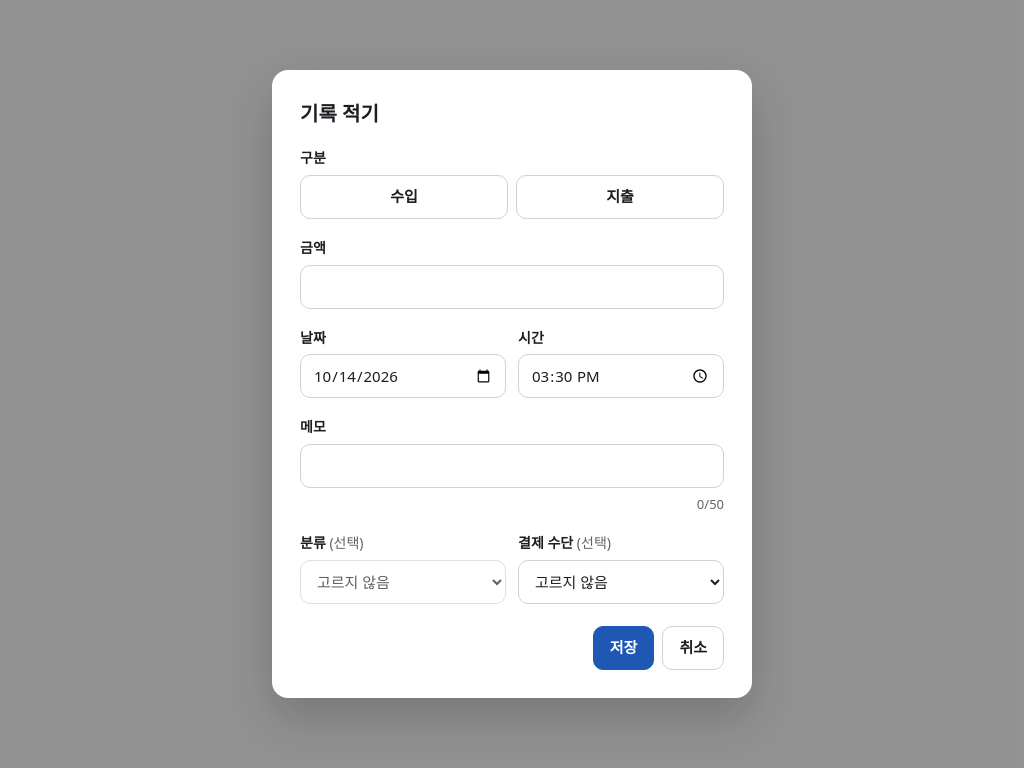
T-121 화면 검사 알림 › 금액 빈칸
The width and height of the screenshot is (1024, 768).
Click the button "지출" at (620, 197), box left=516, top=175, right=724, bottom=219
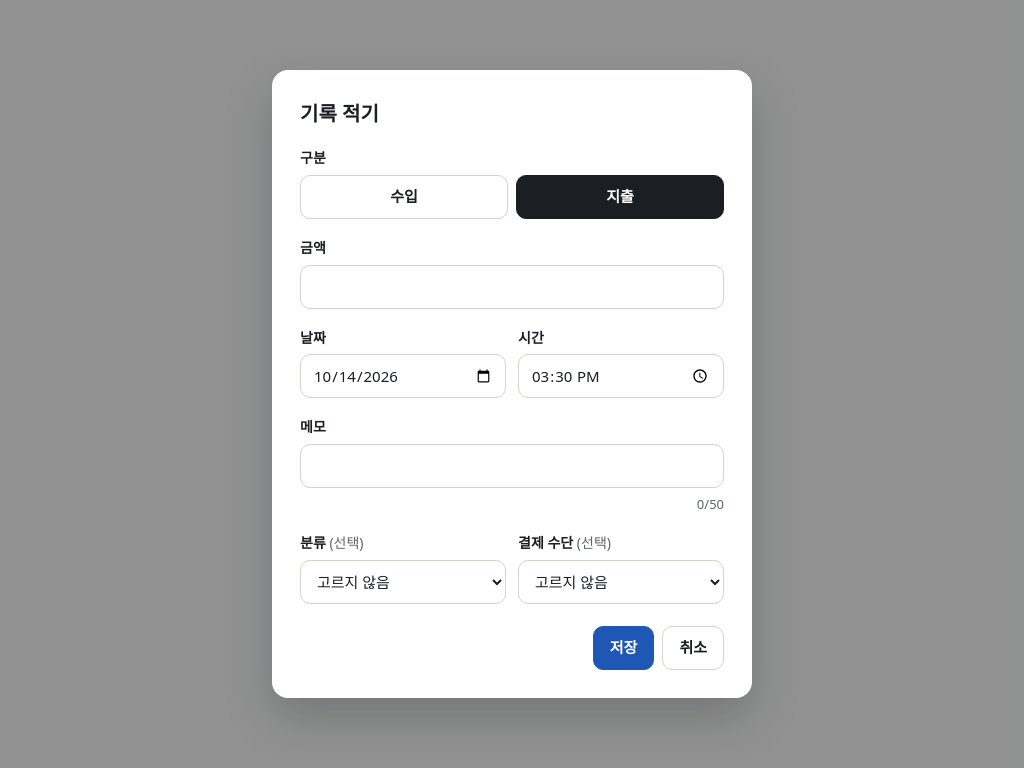
Type "점심" into the field labelled "메모" at (512, 466), box left=300, top=444, right=724, bottom=488
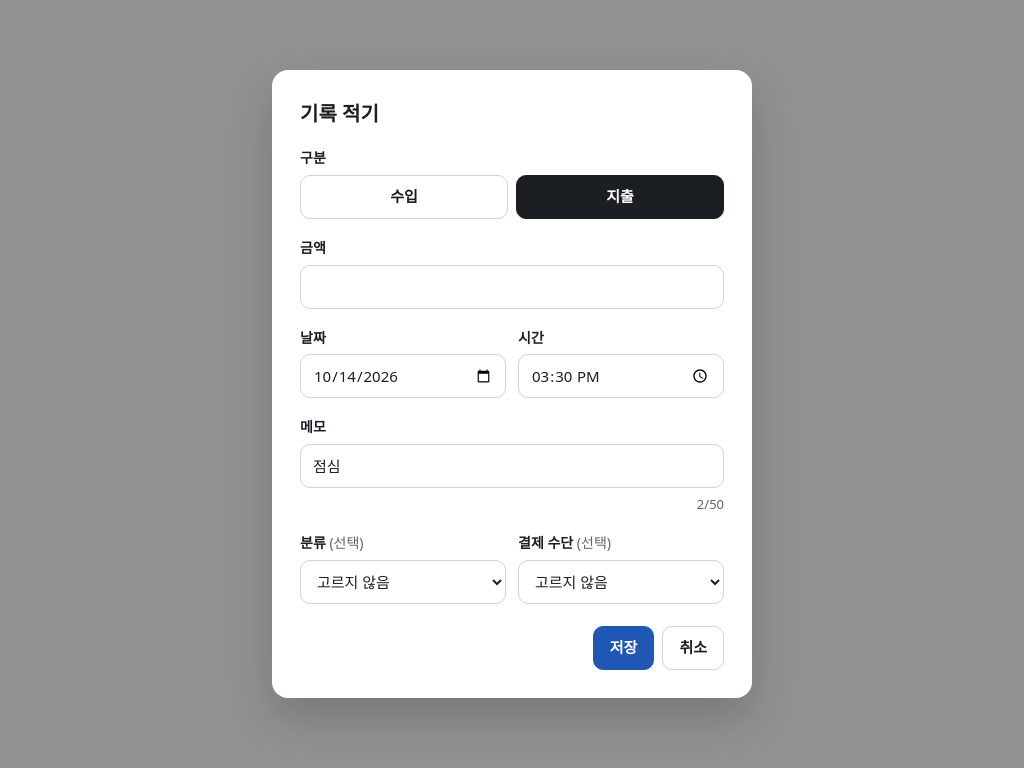
Click the button "저장" at (624, 648), box left=593, top=626, right=654, bottom=670
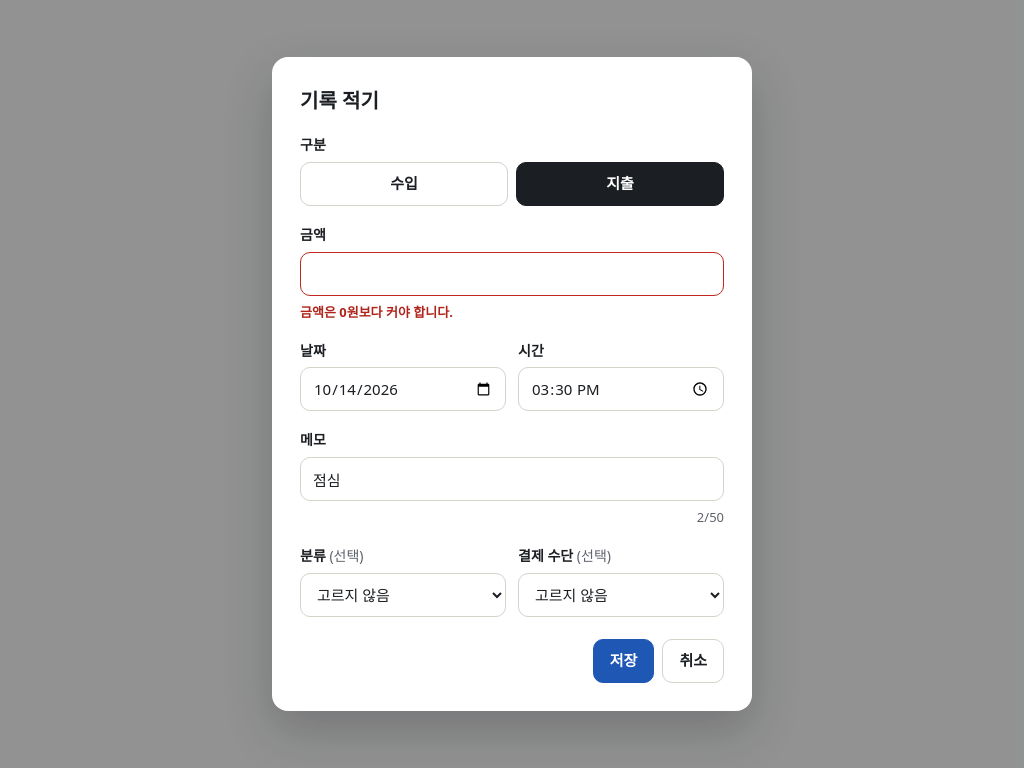
Expected: the text "금액은 0원보다 커야 합니다." is shown, left=300, top=302, right=453, bottom=320
